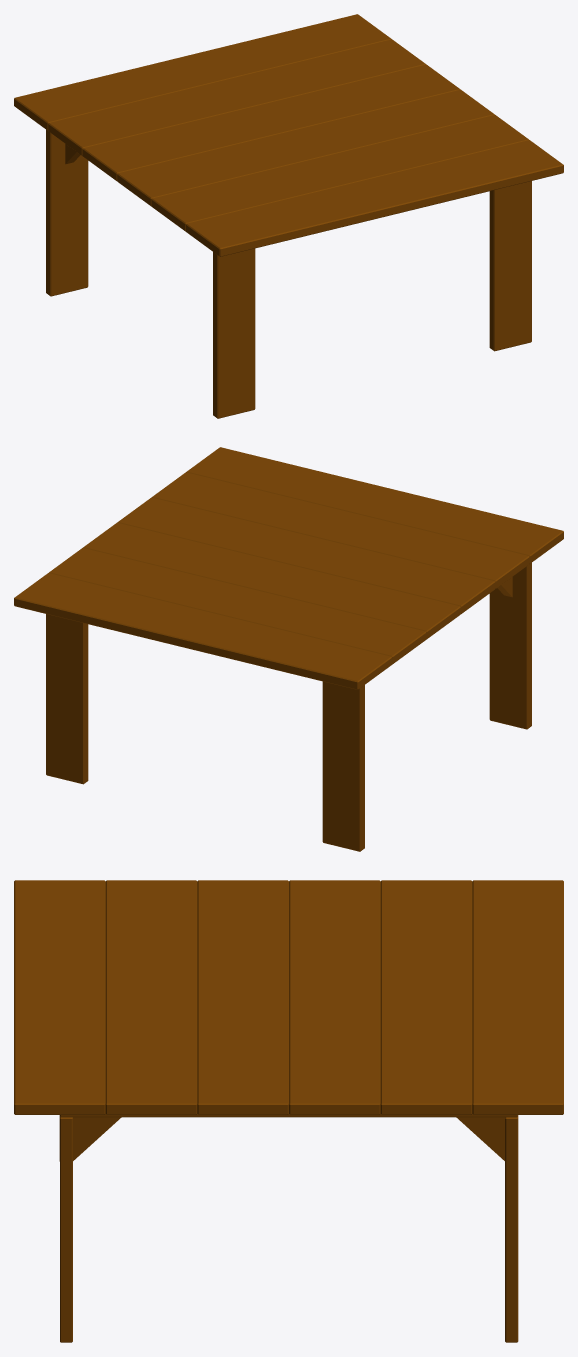
The model's file is table2.glb.
The picture shows the model from 3 angles, top to bottom: view 1: azimuth 30°, elevation 25°; view 2: azimuth 150°, elevation 25°; view 3: azimuth 270°, elevation 25°; orthographic projection. The views are drawn at different scales.
Parts seen in each view (by area): view 1: board1.01, board1.04, board1.03, board1.05, board1.06, board1.02, board4.03, board3.02, board4.02; view 2: board1.06, board1.03, board1.01, board1.02, board1.04, board1.05, board4.02, board3.03, board4.03; view 3: board1.02, board1.05, board1.01, board1.03, board1.04, board1.06, board3.03, board3.02, board3.01, board3.11, board3.12.
Boxes of the visible parts, <box> form: board1.01: <box>186,140,563,256</box>; board1.04: <box>82,64,460,180</box>; board1.03: <box>117,89,494,206</box>; board1.05: <box>48,39,425,155</box>; board1.06: <box>14,14,391,130</box>; board1.02: <box>151,115,528,231</box>; board4.03: <box>213,248,255,418</box>; board3.02: <box>489,181,531,351</box>; board4.02: <box>46,130,88,296</box>; board1.06: <box>14,573,391,689</box>; board1.03: <box>117,497,495,613</box>; board1.01: <box>186,447,563,563</box>; board1.02: <box>152,472,529,588</box>; board1.04: <box>83,522,460,639</box>; board1.05: <box>49,548,426,664</box>; board4.02: <box>322,681,364,851</box>; board3.03: <box>46,614,88,784</box>; board4.03: <box>489,563,531,729</box>; board1.02: <box>105,880,197,1114</box>; board1.05: <box>380,880,472,1114</box>; board1.01: <box>14,880,105,1114</box>; board1.03: <box>197,880,288,1114</box>; board1.04: <box>289,880,380,1114</box>; board1.06: <box>472,880,563,1114</box>; board3.03: <box>505,1115,518,1342</box>; board3.02: <box>60,1116,72,1342</box>; board3.01: <box>59,1114,517,1117</box>; board3.11: <box>73,1117,121,1160</box>; board3.12: <box>456,1117,504,1160</box>.
Bounding box in the file's own units: 0.81 × 0.42 × 0.84.
